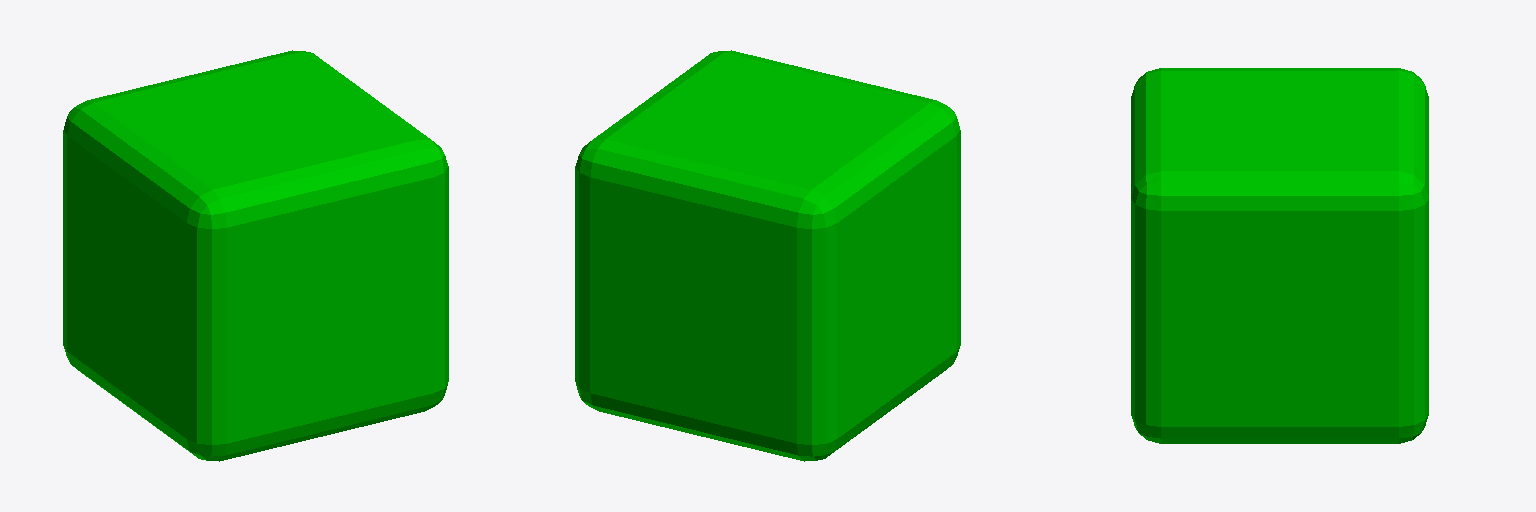
The model's file is Slime.obj.
3 views of the same model, side by side, from view 1: azimuth 30°, elevation 25°; view 2: azimuth 150°, elevation 25°; view 3: azimuth 270°, elevation 25° (orthographic).
Visible parts, largest first — view 1: Cube.001; view 2: Cube.001; view 3: Cube.001.
Boxes of the visible parts, x1,y1,x2,y2 form: Cube.001: [63, 50, 448, 461]; Cube.001: [575, 50, 960, 461]; Cube.001: [1131, 68, 1428, 443].
Bounding box in the file's own units: 2 × 2 × 2.